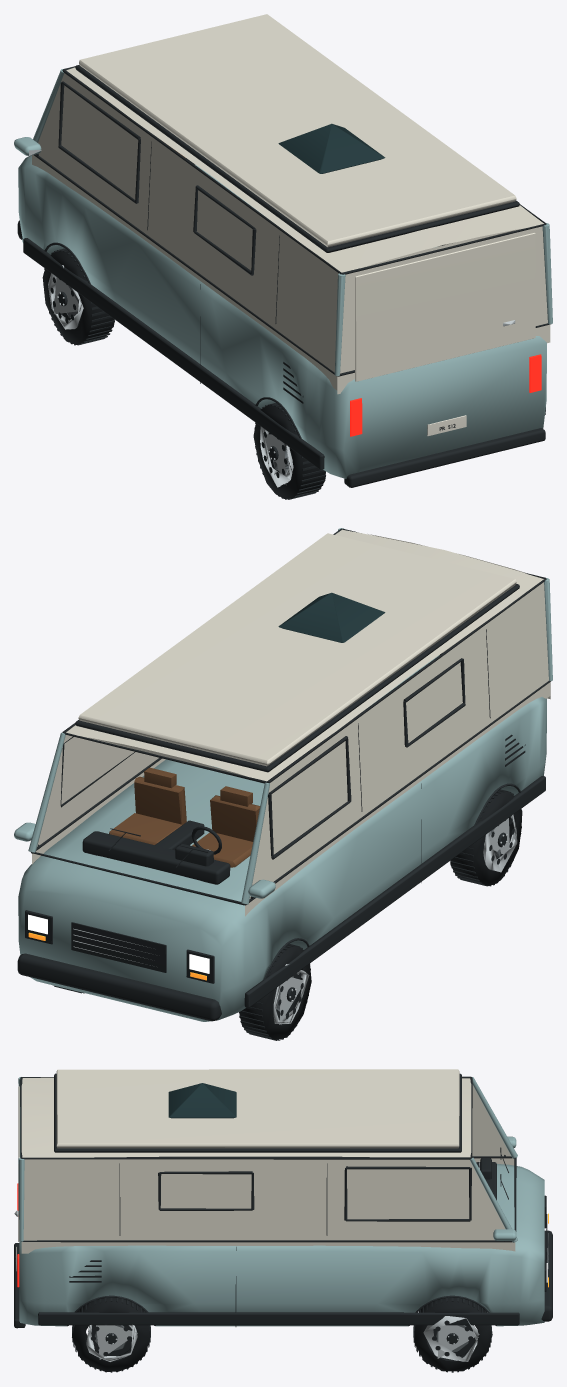
File: traffic-camper-lod.glb
The picture shows the model from 3 angles, top to bottom: view 1: azimuth 30°, elevation 25°; view 2: azimuth 150°, elevation 25°; view 3: azimuth 270°, elevation 25°; orthographic projection. The views are drawn at different scales.
Visible parts, largest first — view 1: Traffic accent, Traffic enamel.004, Traffic polymer.004, Traffic tire rubber.004, Traffic smoked glazing.004, Traffic satin alloy.004, Traffic ruby lamps.004; view 2: Traffic accent, Traffic enamel.004, Traffic polymer.004, Traffic upholstery.004, Traffic tire rubber.004, Traffic smoked glazing.004, Traffic satin alloy.004, Traffic ivory lamps.004; view 3: Traffic accent, Traffic enamel.004, Traffic polymer.004, Traffic tire rubber.004, Traffic satin alloy.004, Traffic smoked glazing.004.
Boxes of the visible parts, x1,y1,x2,y2 form: Traffic accent: [32, 14, 550, 394]; Traffic enamel.004: [14, 69, 552, 478]; Traffic polymer.004: [17, 65, 549, 499]; Traffic tire rubber.004: [42, 250, 325, 498]; Traffic smoked glazing.004: [278, 123, 385, 173]; Traffic satin alloy.004: [29, 150, 515, 487]; Traffic ruby lamps.004: [350, 354, 541, 436]; Traffic accent: [32, 529, 550, 916]; Traffic enamel.004: [14, 528, 552, 1021]; Traffic polymer.004: [17, 528, 550, 1040]; Traffic upholstery.004: [109, 767, 260, 867]; Traffic tire rubber.004: [82, 791, 522, 1039]; Traffic smoked glazing.004: [278, 592, 385, 642]; Traffic satin alloy.004: [73, 814, 517, 1024]; Traffic ivory lamps.004: [28, 914, 209, 973]; Traffic accent: [18, 1069, 515, 1253]; Traffic enamel.004: [18, 1077, 544, 1326]; Traffic polymer.004: [14, 1073, 552, 1372]; Traffic tire rubber.004: [72, 1297, 492, 1371]; Traffic satin alloy.004: [14, 1161, 548, 1361]; Traffic smoked glazing.004: [168, 1083, 236, 1118].
Size of the model in its own units: 2.24 by 2.6 by 5.15.
